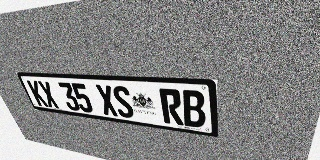3: (58, 82, 81, 111)
5: (71, 83, 94, 113)
B: (181, 90, 206, 129)
K: (26, 80, 49, 107)
R: (159, 88, 184, 126)
S: (111, 85, 135, 119)
X: (95, 84, 119, 117), (37, 81, 60, 109)
